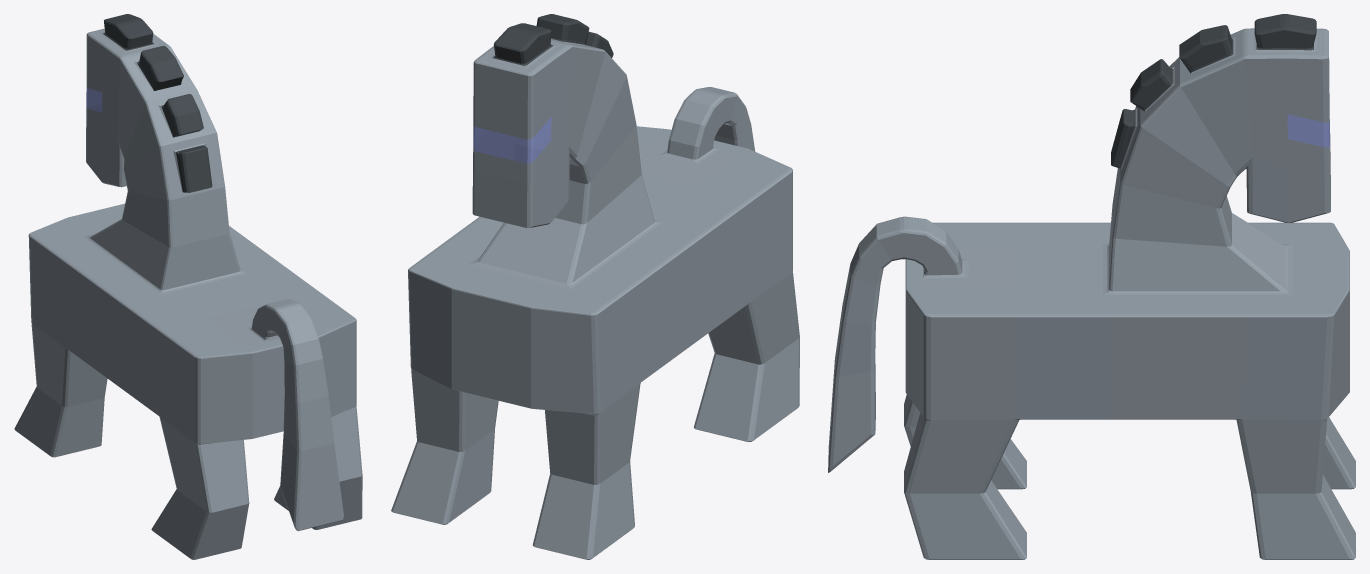
The model's file is Virus_TrojanHorse.fbx.
3 views of the same model, side by side, from view 1: azimuth 30°, elevation 25°; view 2: azimuth 150°, elevation 25°; view 3: azimuth 270°, elevation 25° (orthographic). The views are drawn at different scales.
Visible parts, largest first — view 1: Virus_TrojanHorse; view 2: Virus_TrojanHorse; view 3: Virus_TrojanHorse.
Boxes of the visible parts, <box> form: Virus_TrojanHorse: <box>14,14,362,559</box>; Virus_TrojanHorse: <box>391,14,799,559</box>; Virus_TrojanHorse: <box>828,14,1355,559</box>.
Size of the model in its own units: 169 by 376 by 385.
